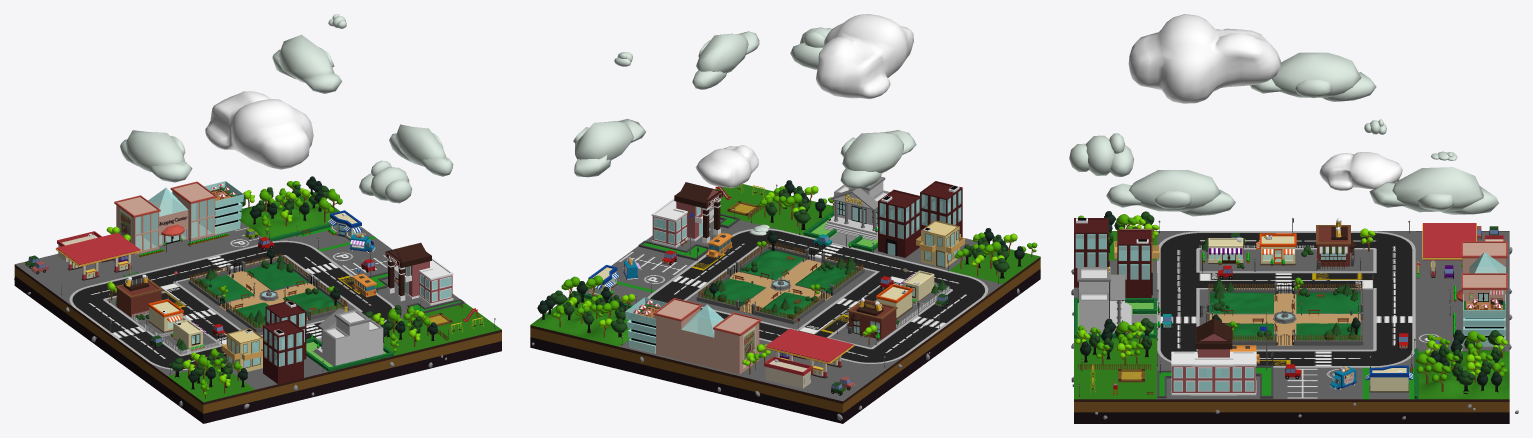
Rendered from low_poly_city (1).glb.
The picture shows the model from 3 angles, left to right: view 1: azimuth 30°, elevation 25°; view 2: azimuth 150°, elevation 25°; view 3: azimuth 270°, elevation 25°; orthographic projection. The views are drawn at different scales.
Parts seen in each view (by area): view 1: Plane.002, Cube.061, terriccio, Cube.024, Icosphere.158, Icosphere.087, prato mall, struttura, terreno, Icosphere.159, Plane.012, Cube.051 (+24 smaller); view 2: Plane.002, Cube.061, terriccio, Icosphere.158, Cube.024, Icosphere.087, Icosphere.159, Cube.070, terreno, Plane.012, Plane.006, Cube.050 (+32 smaller); view 3: Plane.002, Cube.061, Icosphere.087, Icosphere.159, Icosphere.158, terriccio, prato mall, Cube.070, Plane.012, Plane.006, Plane.015, Icosphere.160 (+35 smaller).
Part boxes in pixels (bbox=[...]): Plane.002: bbox=[14, 235, 501, 423]; Cube.061: bbox=[205, 91, 313, 169]; terriccio: bbox=[197, 262, 342, 327]; Cube.024: bbox=[116, 191, 214, 254]; Icosphere.158: bbox=[120, 130, 192, 182]; Icosphere.087: bbox=[272, 34, 342, 93]; prato mall: bbox=[131, 222, 262, 272]; struttura: bbox=[322, 309, 383, 366]; terreno: bbox=[15, 254, 142, 293]; Icosphere.159: bbox=[389, 124, 453, 176]; Plane.012: bbox=[239, 191, 339, 238]; Cube.051: bbox=[263, 320, 303, 384]; Plane.002: bbox=[530, 222, 1040, 423]; Cube.061: bbox=[816, 14, 913, 99]; terriccio: bbox=[703, 249, 857, 317]; Icosphere.158: bbox=[840, 130, 916, 188]; Cube.024: bbox=[656, 308, 759, 374]; Icosphere.087: bbox=[573, 118, 645, 177]; Icosphere.159: bbox=[692, 31, 759, 89]; Cube.070: bbox=[695, 145, 758, 187]; terreno: bbox=[752, 357, 885, 401]; Plane.012: bbox=[530, 297, 630, 346]; Plane.006: bbox=[611, 246, 696, 290]; Cube.050: bbox=[878, 190, 920, 257]; Plane.002: bbox=[1074, 231, 1509, 423]; Cube.061: bbox=[1128, 14, 1280, 103]; Icosphere.087: bbox=[1369, 167, 1498, 214]; Icosphere.159: bbox=[1106, 170, 1235, 216]; Icosphere.158: bbox=[1250, 52, 1376, 101]; terriccio: bbox=[1209, 292, 1360, 340]; prato mall: bbox=[1415, 280, 1509, 351]; Cube.070: bbox=[1319, 152, 1402, 190]; Plane.012: bbox=[1416, 349, 1509, 399]; Plane.006: bbox=[1271, 367, 1362, 399]; Plane.015: bbox=[1074, 367, 1156, 399]; Icosphere.160: bbox=[1069, 133, 1133, 176].
Bounding box in the file's own units: 76.13 × 62.15 × 84.93.
85 materials, 37 textured.
